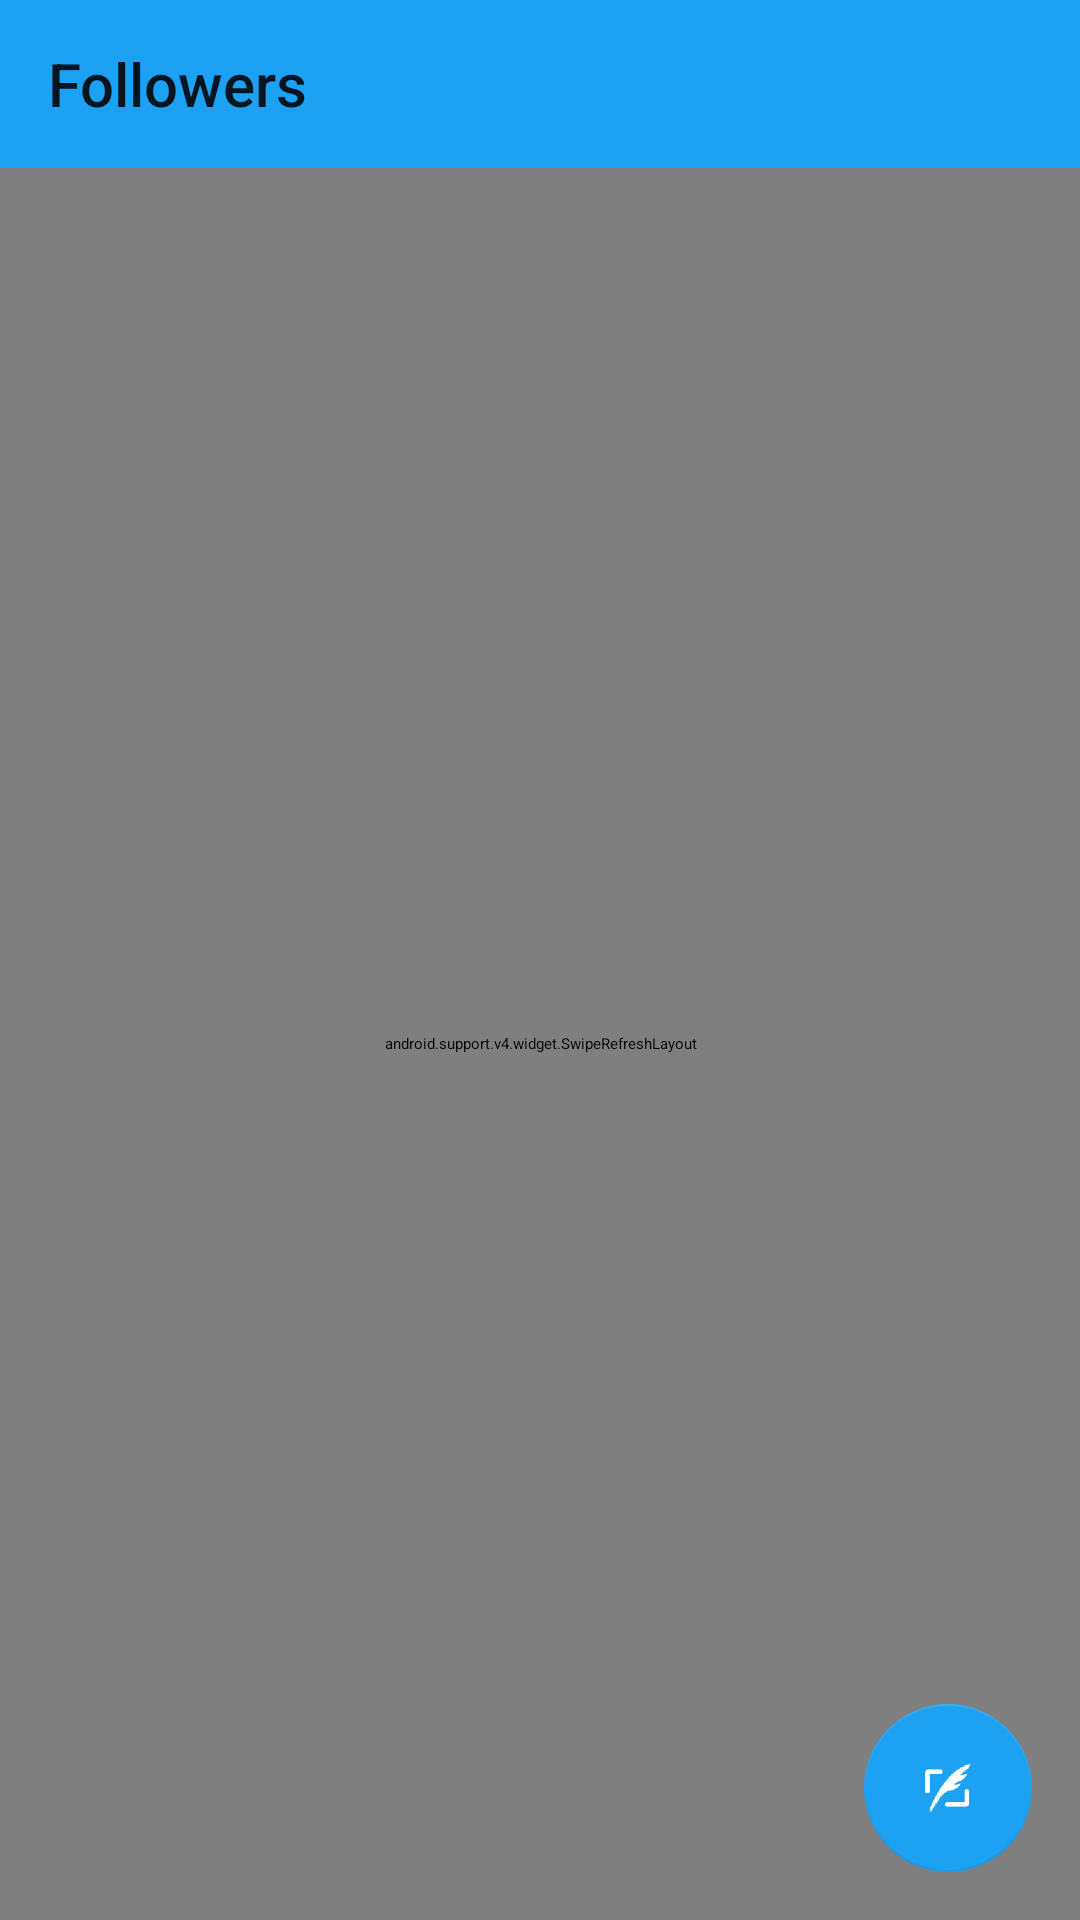

Locate icon controls on the screen. Image size 1080x1920, boxes as (x1, y1, x2, y2).
compose: (864, 1704, 1032, 1872)
